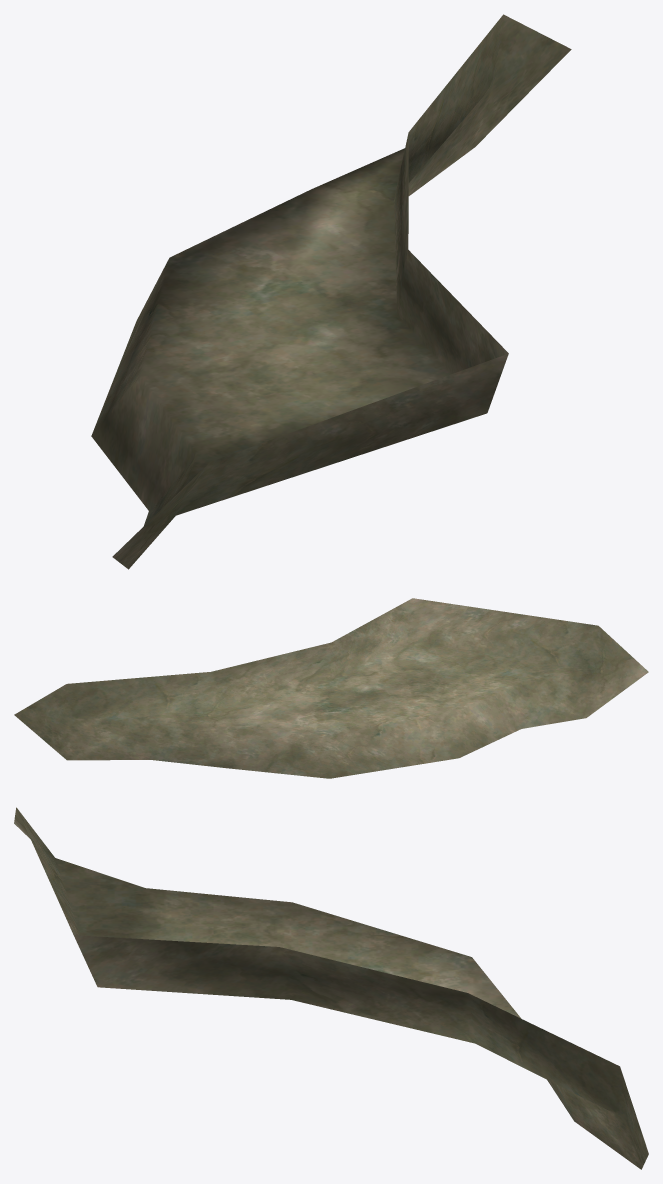
Rendered from EKH_THRONE_PS_TH_OBJECT17.fbx.
3 views of the same model, one above another, from view 1: azimuth 30°, elevation 25°; view 2: azimuth 150°, elevation 25°; view 3: azimuth 270°, elevation 25° (orthographic). The views are drawn at different scales.
Parts seen in each view (by area): view 1: EKH_THRONE_PS_TH_OBJECT17; view 2: EKH_THRONE_PS_TH_OBJECT17; view 3: EKH_THRONE_PS_TH_OBJECT17.
Part boxes in pixels (bbox=[...]): EKH_THRONE_PS_TH_OBJECT17: bbox=[91, 14, 571, 569]; EKH_THRONE_PS_TH_OBJECT17: bbox=[14, 598, 648, 778]; EKH_THRONE_PS_TH_OBJECT17: bbox=[14, 807, 648, 1169].
Size of the model in its own units: 34603 by 5322 by 28088.
Materials: 1 (1 with a texture image).
